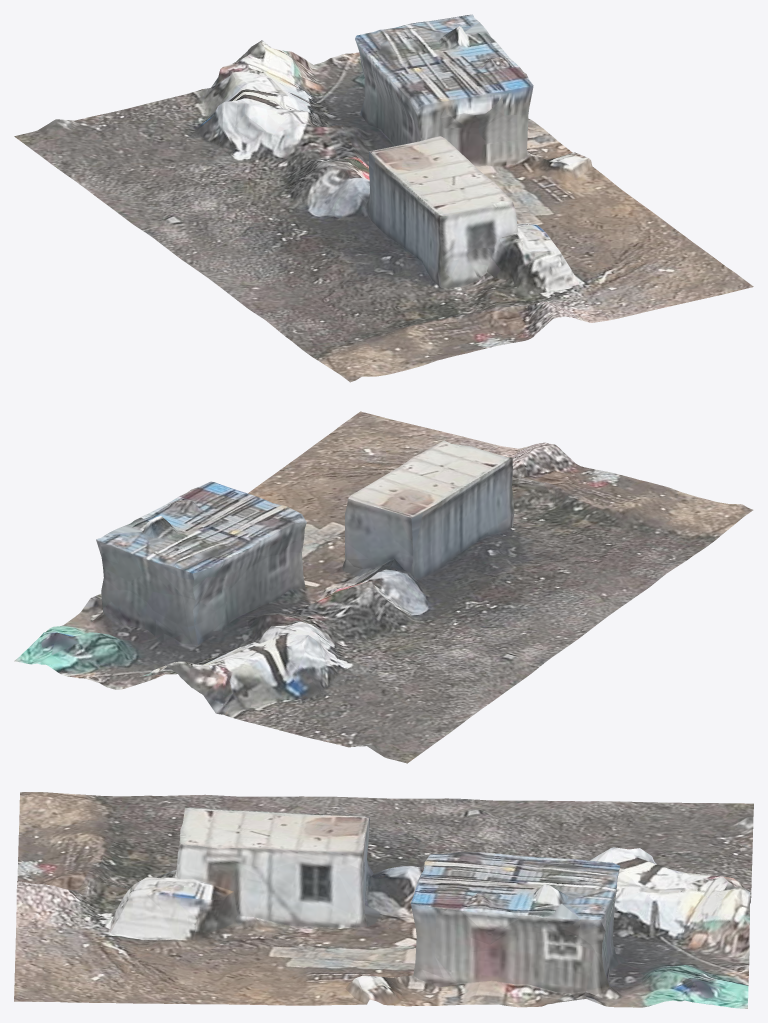
File: Tile_+009_+008_L21_0uuuu111.glb
3 renders of one model, top to bottom at view 1: azimuth 30°, elevation 25°; view 2: azimuth 150°, elevation 25°; view 3: azimuth 270°, elevation 25°, orthographic. The views are drawn at different scales.
Parts seen in each view (by area): view 1: rtc; view 2: rtc; view 3: rtc.
Boxes of the visible parts, box(x1,y1,x2,y2) form: rtc: box(14, 14, 753, 382); rtc: box(14, 411, 753, 763); rtc: box(14, 792, 753, 1008).
Size of the model in its own units: 15.91 by 3.52 by 23.35.
Materials: 1 (1 with a texture image).
